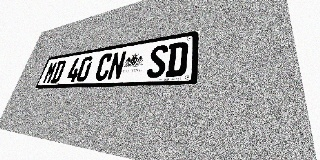0: (75, 56, 94, 82)
4: (65, 57, 83, 82)
C: (94, 53, 114, 81)
D: (165, 41, 189, 77), (50, 60, 67, 83)
M: (42, 61, 58, 84)
N: (106, 50, 127, 80)
S: (146, 44, 169, 78)
